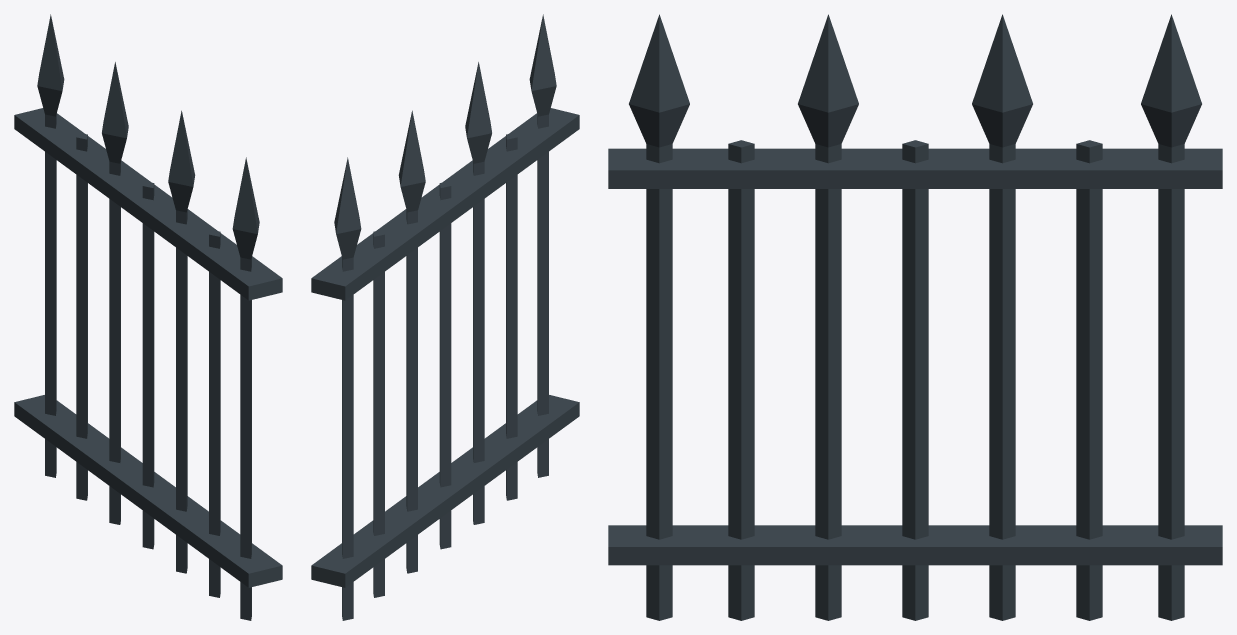
The model's file is medieval_labyrinth_-_spiked_fence.glb.
3 views of the same model, side by side, from view 1: azimuth 30°, elevation 25°; view 2: azimuth 150°, elevation 25°; view 3: azimuth 270°, elevation 25° (orthographic). The views are drawn at different scales.
Visible parts, largest first — view 1: Object_2; view 2: Object_2; view 3: Object_2.
Part boxes in pixels (x1,y1,x2,y2): Object_2: (14, 14, 282, 620); Object_2: (311, 14, 579, 620); Object_2: (608, 14, 1222, 620).
Bounding box in the file's own units: 0.25 × 3.25 × 3.
1 material, 1 textured.
